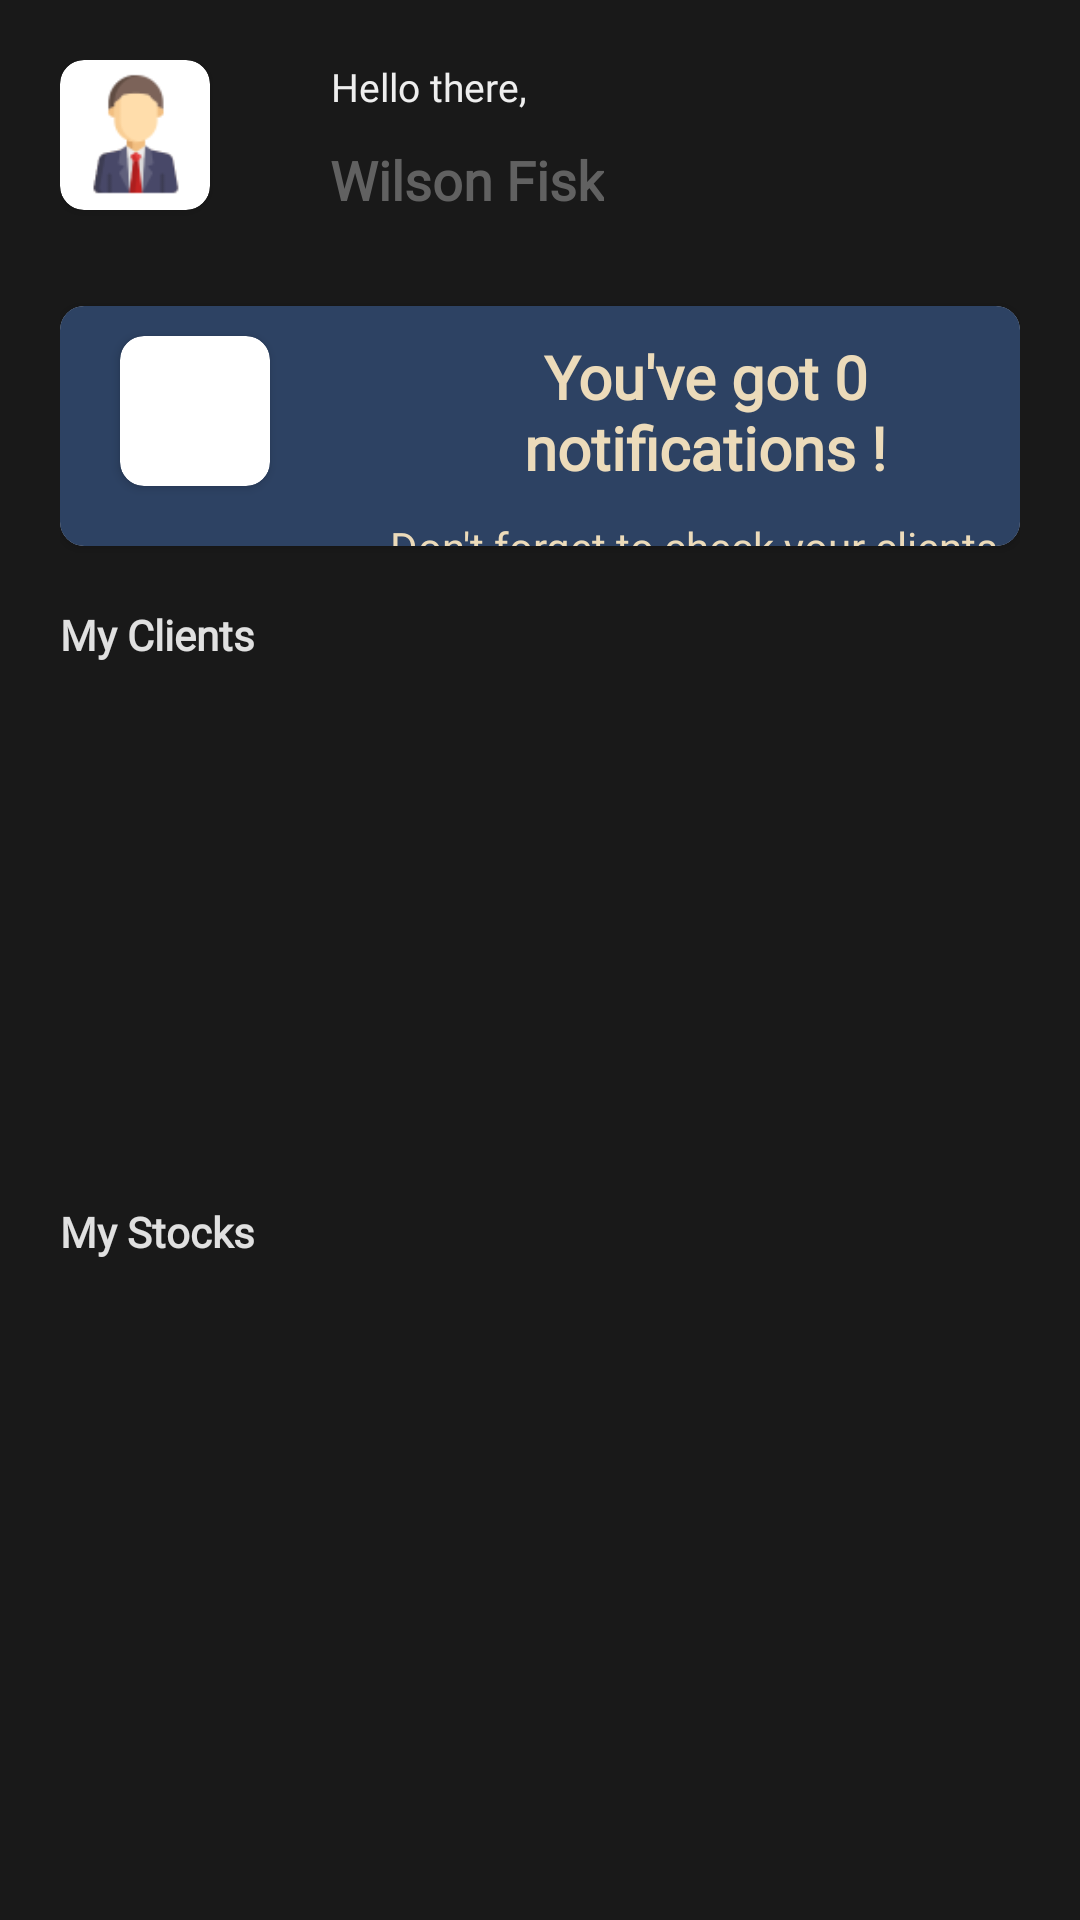

Where to tap for icons on this 1080px×1920px app screen, as point (x, y):
business man: point (135, 135)
